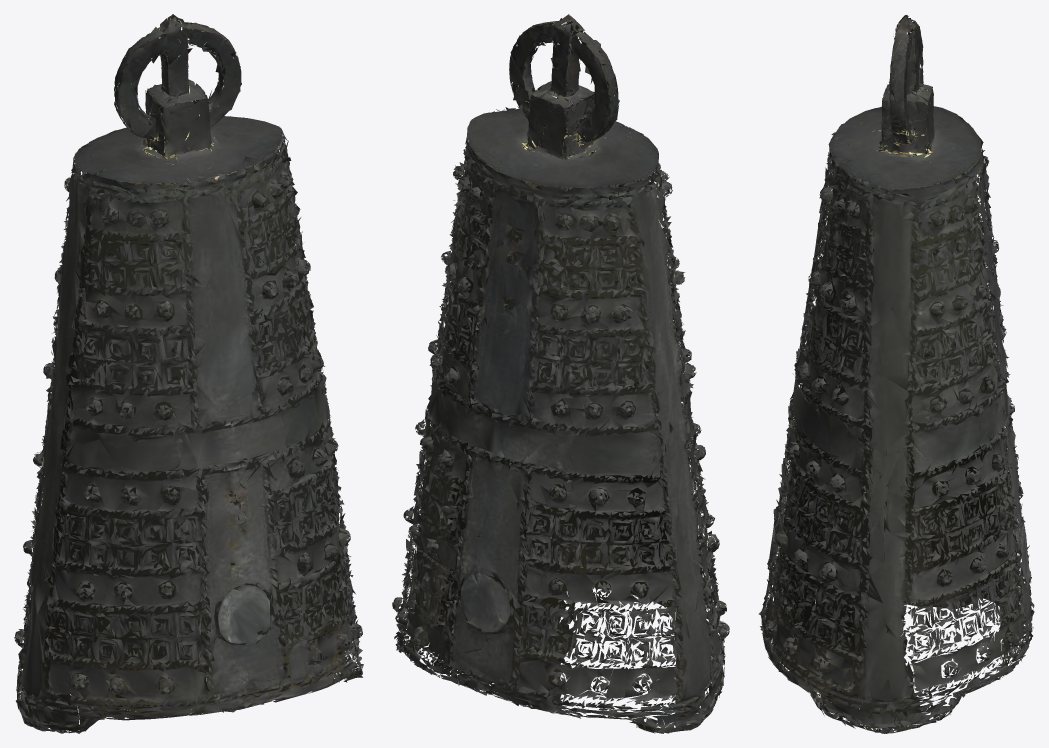
File: tukjong.glb
3 views of the same model, side by side, from view 1: azimuth 30°, elevation 25°; view 2: azimuth 150°, elevation 25°; view 3: azimuth 270°, elevation 25° (orthographic). The views are drawn at different scales.
Parts seen in each view (by area): view 1: Jongmyo Jerye_Royal Ancestral Ritual in the Jongmyo Shrine_A; view 2: Jongmyo Jerye_Royal Ancestral Ritual in the Jongmyo Shrine_A; view 3: Jongmyo Jerye_Royal Ancestral Ritual in the Jongmyo Shrine_A.
Part boxes in pixels (x1,y1,x2,y2): Jongmyo Jerye_Royal Ancestral Ritual in the Jongmyo Shrine_A: (14,14,363,733); Jongmyo Jerye_Royal Ancestral Ritual in the Jongmyo Shrine_A: (392,14,729,733); Jongmyo Jerye_Royal Ancestral Ritual in the Jongmyo Shrine_A: (758,15,1034,733).
Bounding box in the file's own units: 299 × 627 × 241.
Materials: 1 (1 with a texture image).
